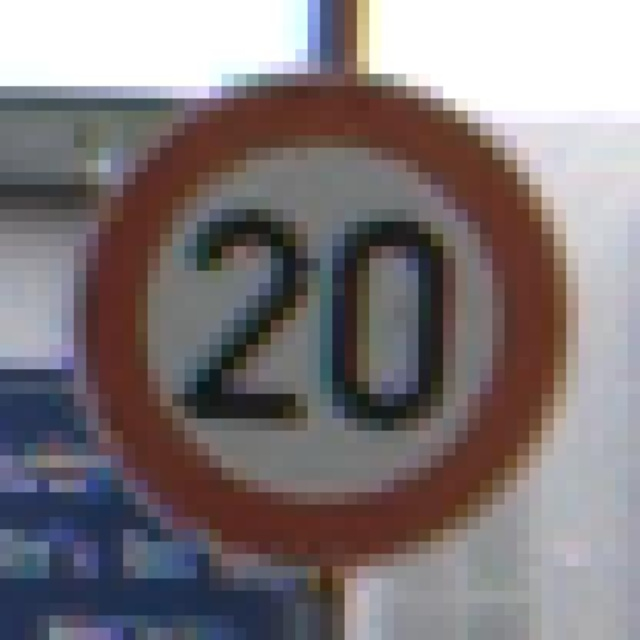Tốc độ tối đa cho phép 20km/h: (87, 84, 565, 561)
